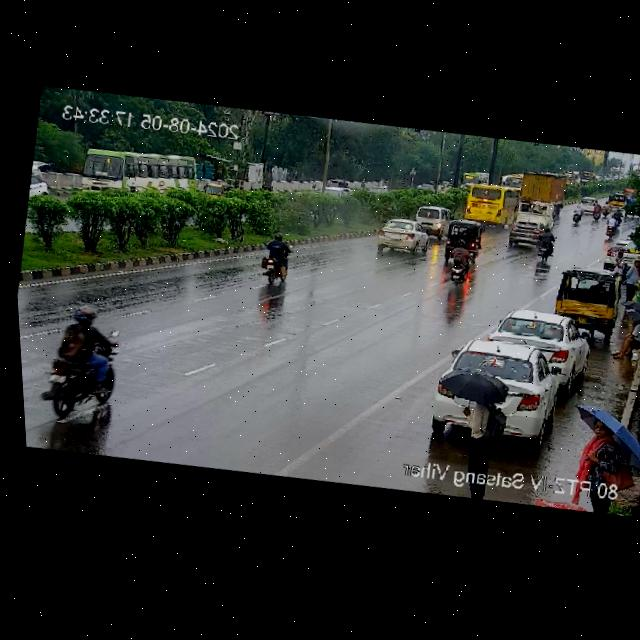bus: (77, 137, 204, 212), (461, 183, 520, 228)
car: (439, 335, 566, 447), (486, 303, 596, 383), (547, 268, 623, 331), (370, 216, 428, 258), (441, 216, 483, 261), (508, 219, 547, 246), (414, 203, 449, 232), (196, 179, 235, 203), (316, 181, 352, 199), (27, 175, 51, 201)
motorcycle: (28, 300, 126, 424), (255, 234, 297, 289), (443, 244, 475, 282), (533, 228, 557, 264)
person: (451, 383, 504, 472), (577, 411, 630, 478), (612, 315, 640, 366), (619, 255, 640, 302)
truck: (513, 171, 567, 217)
